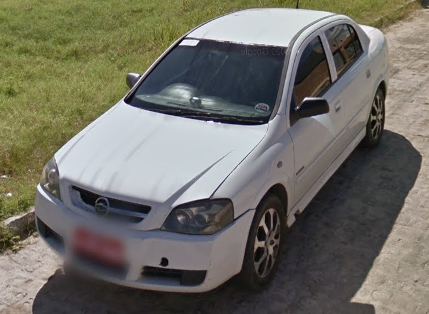car: (36, 7, 389, 293)
